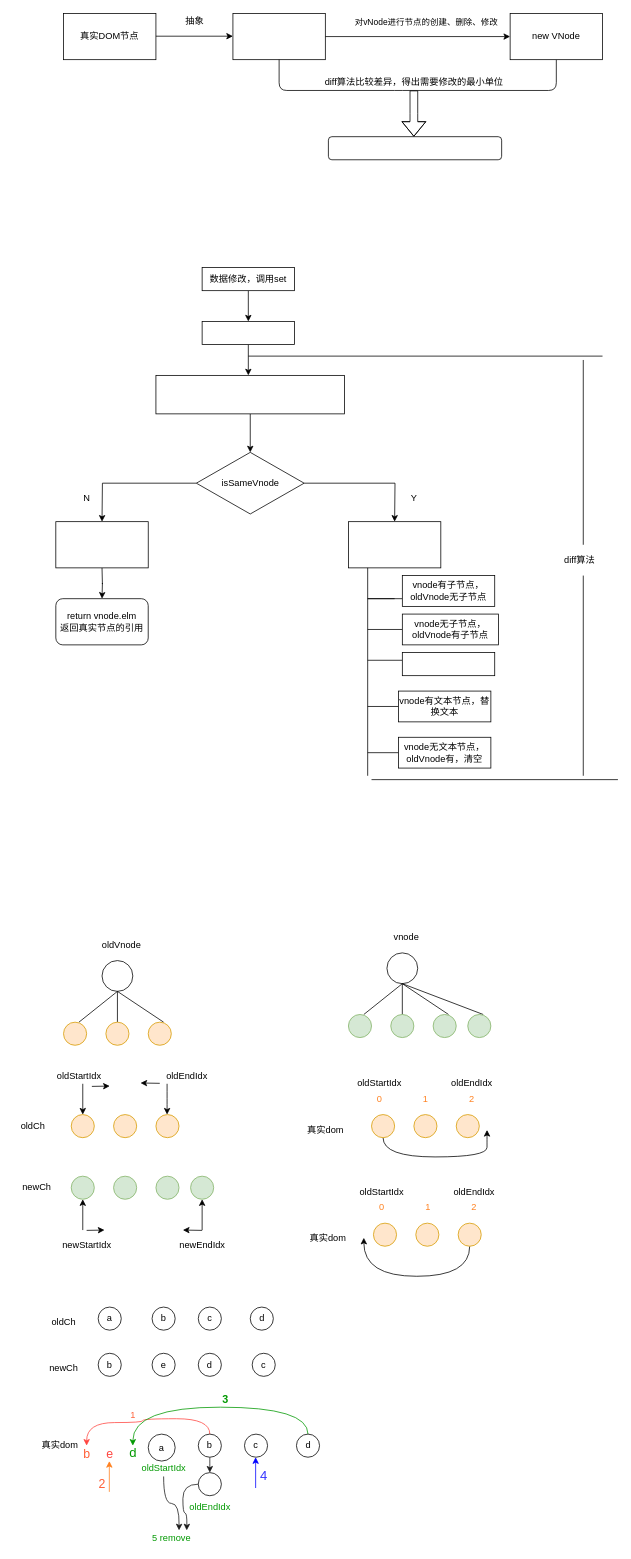
This 631x1559 diagram has some shape labels left out. Here are the shapes that lost their labels. From the top down, the centre of each, then its label:
the point at 278,36: 虚拟DOM树 VNode
the point at 415,148: 修改对应的真实的dom
the point at 248,333: Dep.notify()
the point at 250,394: 执行订阅者watcher.update，调用patch(oldVnode, vnode)
the point at 101,544: 添加新节点，移除旧节点
the point at 394,544: patchVnode
the point at 448,664: vnode，oldVnode都有子节点
the point at 209,1484: null
